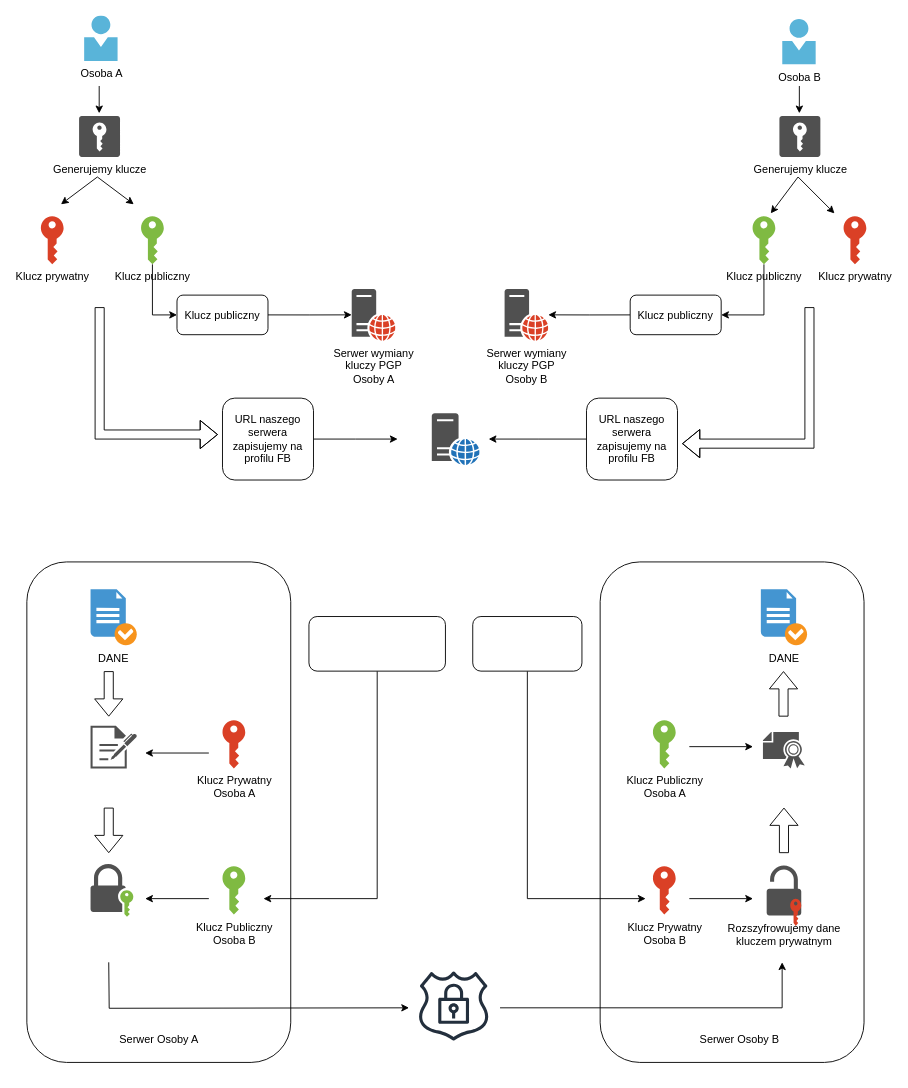
This 908x1088 diagram has some shape labels left out. The centre of each missing label's shape, as x and y in pixels:
Facebook jako centrum identyfikacji (URL): the point at 455,439
Komunikacja SSL Rest API: the point at 453,1005
Pobieramy z FB: klucz publiczny do potwierdzenia nadawcy: the point at 527,643
Pobieramy z FB: URL serwera Osoby B jej klucz publiczny: the point at 376,643
Podpisujemy dane naszym kluczem prywatnym.: the point at 113,746
Szyfrujemy dane kluczem publicznym: the point at 111,890
Weryfikacja podpisu osoby A: the point at 783,750
